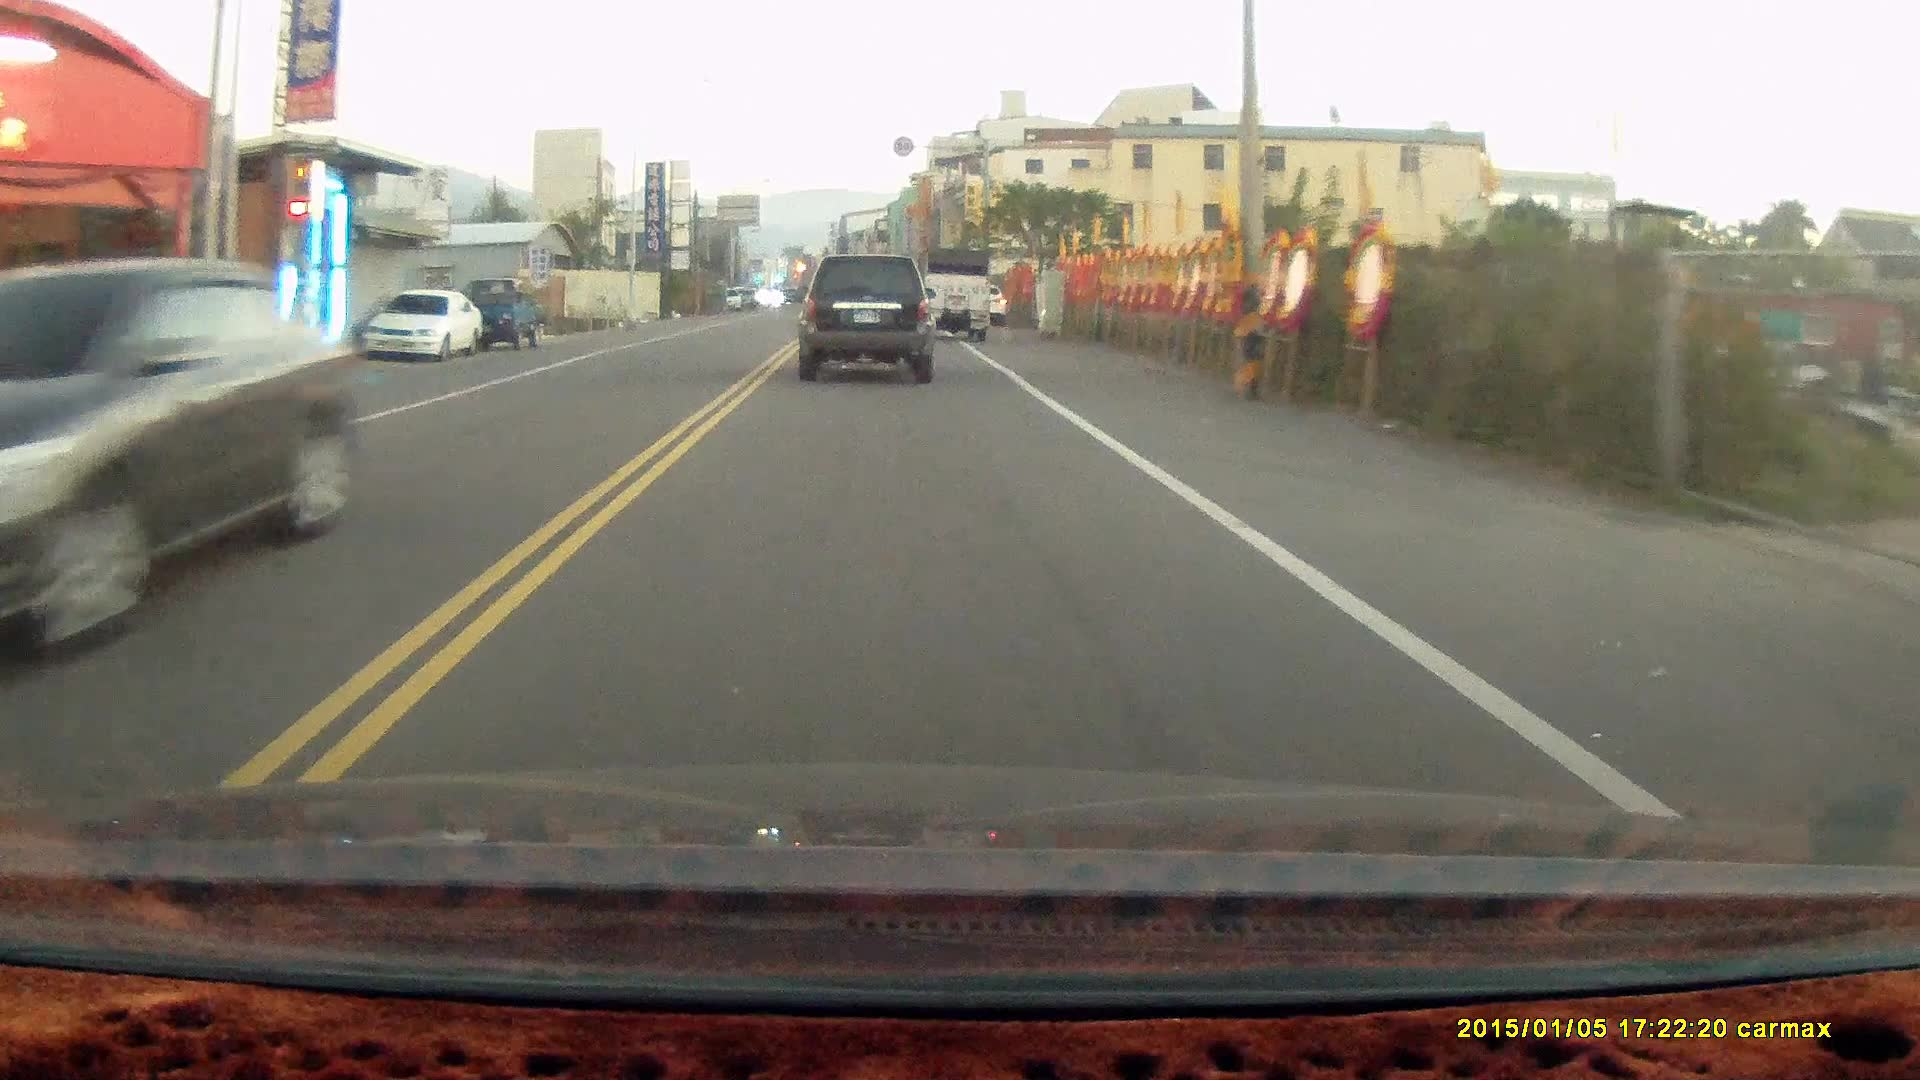vehicle: (1, 258, 368, 680), (800, 253, 939, 385), (365, 287, 487, 363), (923, 248, 996, 345), (462, 276, 551, 352)
